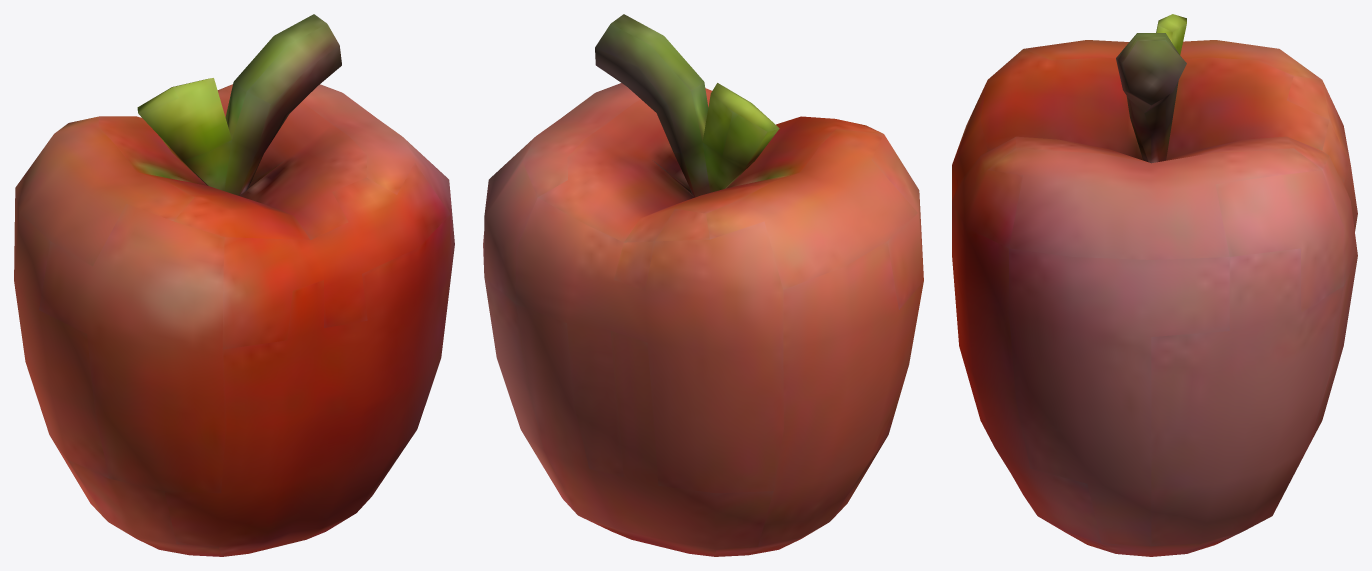
Rendered from apple.glb.
3 renders of one model, left to right at view 1: azimuth 30°, elevation 25°; view 2: azimuth 150°, elevation 25°; view 3: azimuth 270°, elevation 25°, orthographic. The views are drawn at different scales.
Visible parts, largest first — view 1: Apple; view 2: Apple; view 3: Apple.
Part boxes in pixels (x1,y1,x2,y2): Apple: (14,14,454,556); Apple: (483,14,923,556); Apple: (952,14,1357,556).
Size of the model in its own units: 1.19 by 1.39 by 1.
1 material, 1 textured.
